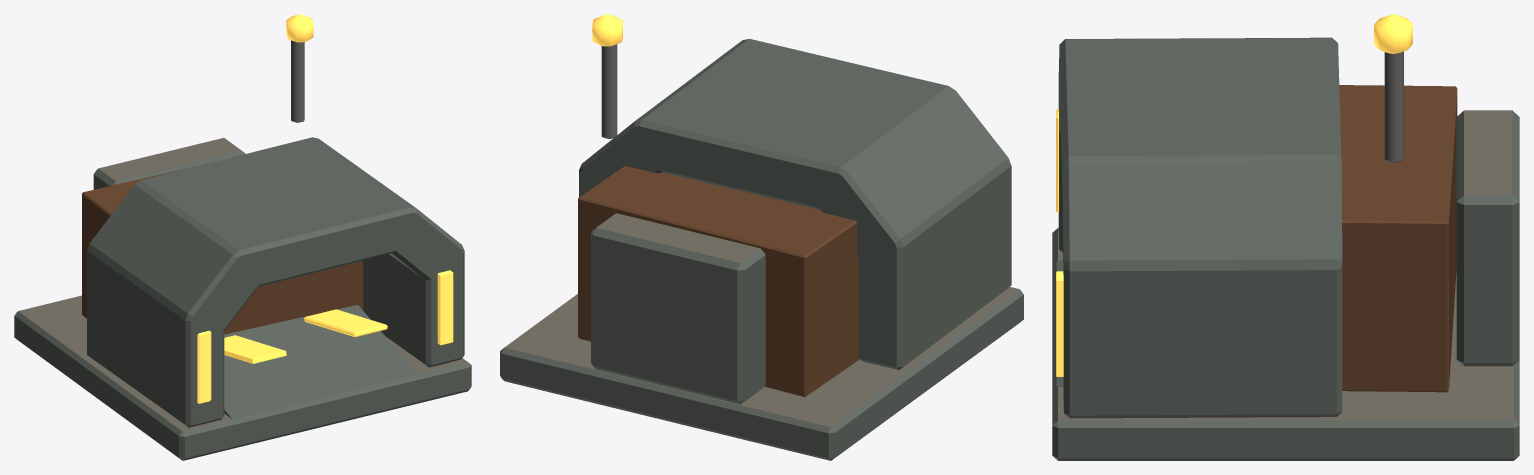
Rendered from R4X_GroundDroneDeployer_LOD1.fbx.
3 views of the same model, side by side, from view 1: azimuth 30°, elevation 25°; view 2: azimuth 150°, elevation 25°; view 3: azimuth 270°, elevation 25° (orthographic). The views are drawn at different scales.
Parts seen in each view (by area): view 1: R4X_GroundDroneDeployer_LOD1; view 2: R4X_GroundDroneDeployer_LOD1; view 3: R4X_GroundDroneDeployer_LOD1.
Boxes of the visible parts, <box> form: R4X_GroundDroneDeployer_LOD1: <box>14,14,471,460</box>; R4X_GroundDroneDeployer_LOD1: <box>500,14,1023,460</box>; R4X_GroundDroneDeployer_LOD1: <box>1052,14,1519,460</box>.
Bounding box in the file's own units: 0.52 × 0.51 × 0.52.
